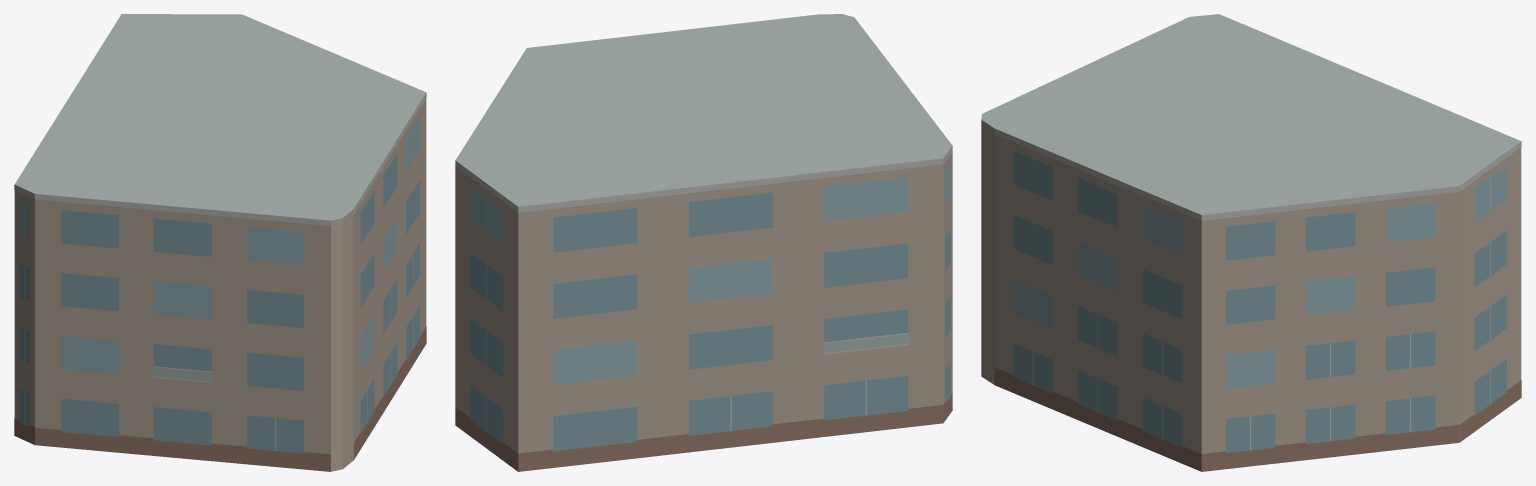
File: survey-upis-32777627.glb
3 views of the same model, side by side, from view 1: azimuth 30°, elevation 25°; view 2: azimuth 150°, elevation 25°; view 3: azimuth 270°, elevation 25° (orthographic). The views are drawn at different scales.
Visible parts, largest first — view 1: survey-upis-32777627.tmp; view 2: survey-upis-32777627.tmp; view 3: survey-upis-32777627.tmp.
Boxes of the visible parts, x1,y1,x2,y2 form: survey-upis-32777627.tmp: [14, 14, 426, 471]; survey-upis-32777627.tmp: [455, 14, 952, 471]; survey-upis-32777627.tmp: [981, 14, 1521, 471].
Bounding box in the file's own units: 18.16 × 10.8 × 20.59.
